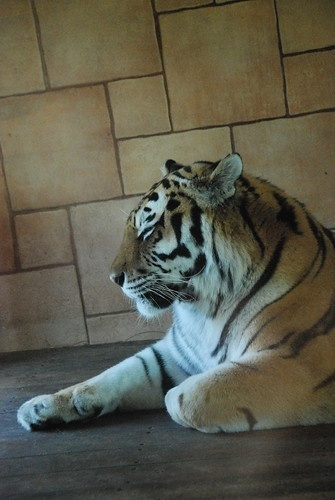tigre: (12, 149, 335, 439)
